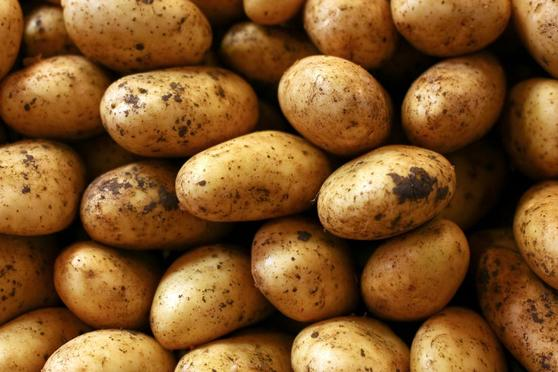potato: (96, 53, 262, 166), (175, 118, 321, 239), (132, 233, 272, 351), (320, 136, 453, 245), (350, 207, 472, 325), (275, 46, 392, 163), (56, 1, 227, 78), (404, 43, 511, 164), (248, 213, 360, 325), (5, 51, 108, 154), (2, 134, 86, 243), (50, 303, 172, 372), (400, 301, 502, 372), (292, 310, 407, 372), (308, 1, 409, 60), (515, 169, 558, 272)
